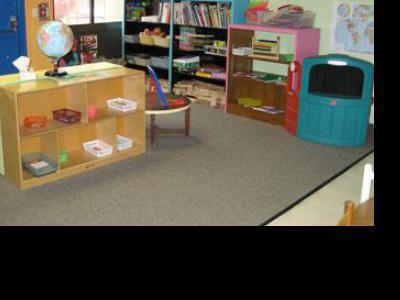Otro Obstaculo: (292, 51, 381, 158), (172, 0, 225, 110)
Puerta: (0, 0, 19, 107)
